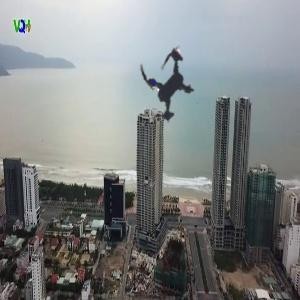drone: (99, 16, 242, 159)
